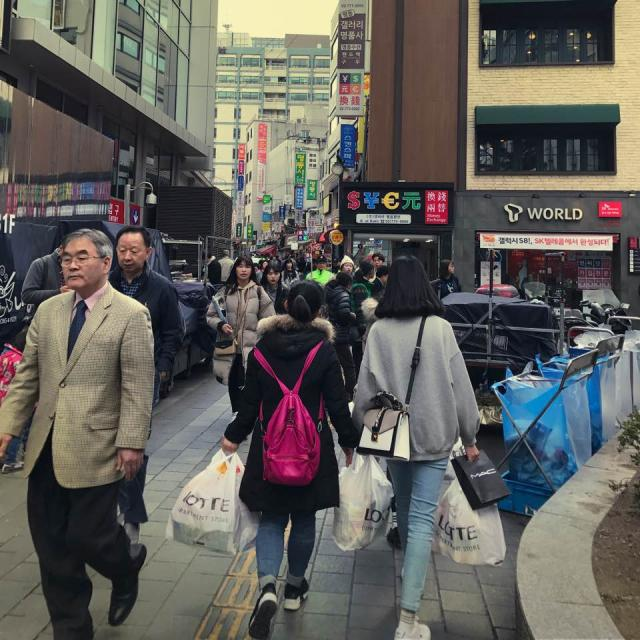body: (329, 256, 510, 640), (0, 226, 158, 639), (220, 278, 354, 640), (107, 222, 186, 548), (205, 253, 278, 428), (20, 234, 76, 328), (0, 325, 31, 475), (323, 271, 357, 403), (348, 258, 377, 384), (259, 263, 292, 315), (349, 260, 371, 330), (438, 258, 463, 300), (305, 255, 336, 288), (200, 249, 223, 285), (215, 248, 237, 285), (514, 256, 533, 295), (279, 258, 300, 292), (371, 264, 391, 298), (159, 228, 174, 271), (552, 279, 567, 313), (339, 254, 357, 277), (255, 260, 270, 286), (355, 238, 374, 256), (247, 249, 272, 261), (371, 252, 386, 270), (254, 264, 264, 286), (303, 248, 311, 271), (294, 257, 302, 279), (298, 256, 307, 272), (290, 254, 298, 271), (282, 246, 295, 256), (331, 258, 339, 274), (270, 255, 280, 266), (282, 254, 289, 266), (296, 249, 304, 258)
